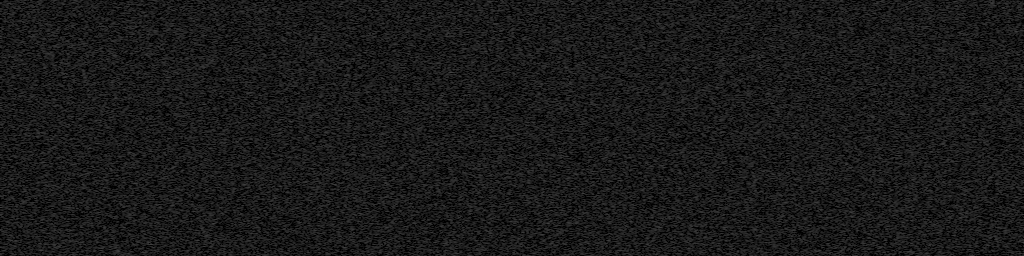wv_cw: (869, 0, 874, 256)
wv_lsb: (902, 157, 906, 179), (902, 96, 906, 117), (902, 180, 906, 194), (902, 46, 906, 57), (902, 19, 906, 28), (902, 37, 906, 45), (902, 88, 906, 95), (902, 29, 906, 36), (902, 150, 906, 156), (902, 238, 905, 245), (902, 124, 906, 129), (902, 196, 906, 201), (902, 133, 905, 139), (902, 118, 906, 122), (902, 64, 906, 68), (902, 69, 905, 74), (902, 228, 906, 231), (902, 6, 906, 9), (902, 222, 906, 225), (902, 217, 905, 221), (902, 142, 906, 145), (902, 2, 905, 5)
wv_usb: (437, 1, 443, 256), (948, 182, 953, 256), (948, 14, 953, 57), (949, 90, 953, 113), (949, 1, 952, 13), (948, 58, 953, 63), (949, 75, 952, 82), (949, 115, 953, 120), (949, 126, 952, 132), (949, 68, 952, 74), (949, 133, 952, 138), (949, 121, 952, 125), (949, 83, 952, 86), (949, 64, 952, 67)
wv_wbfm: (873, 0, 889, 242)
